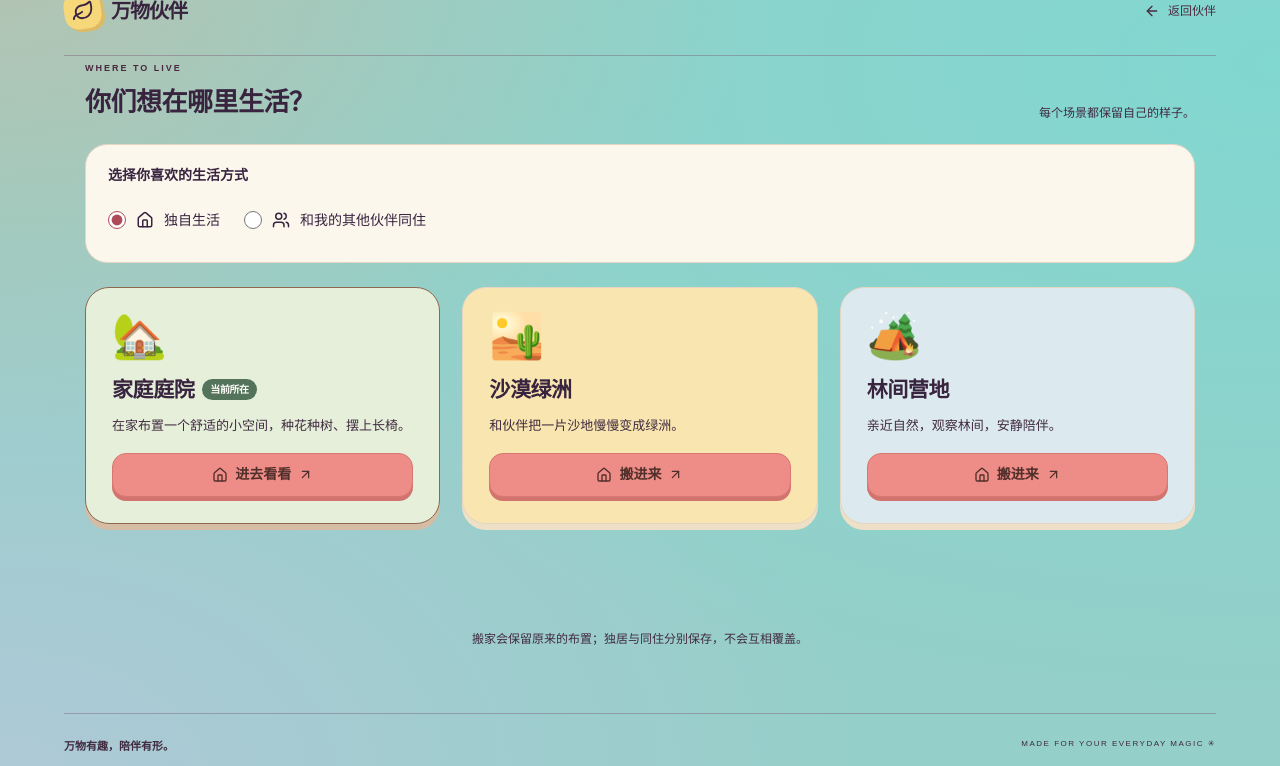
Scenario: creates only on explicit request and blocks consecutive clicks
Click the radio button labelled "和我的其他伙伴同住".
click(253, 220)  # box left=244, top=211, right=262, bottom=229
(page scrolled)
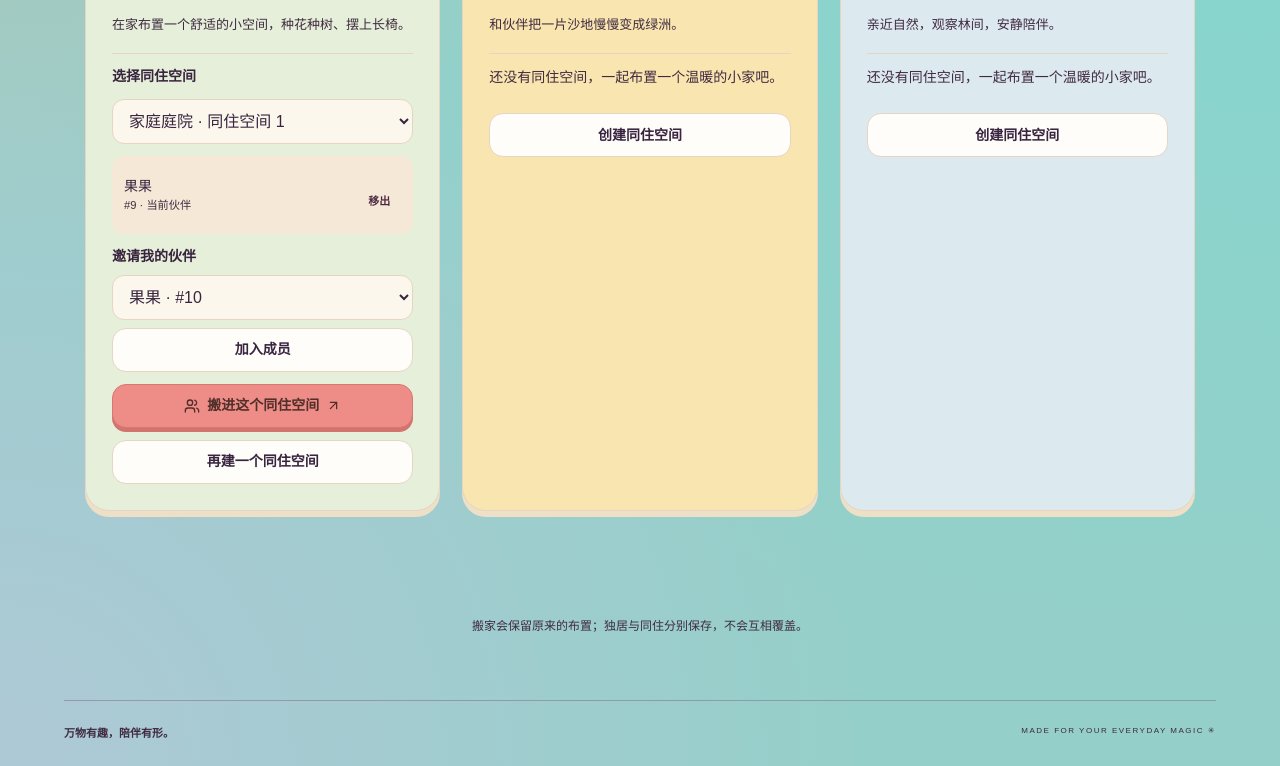
Click the button "再建一个同住空间".
click(263, 462)  # box left=112, top=440, right=413, bottom=484
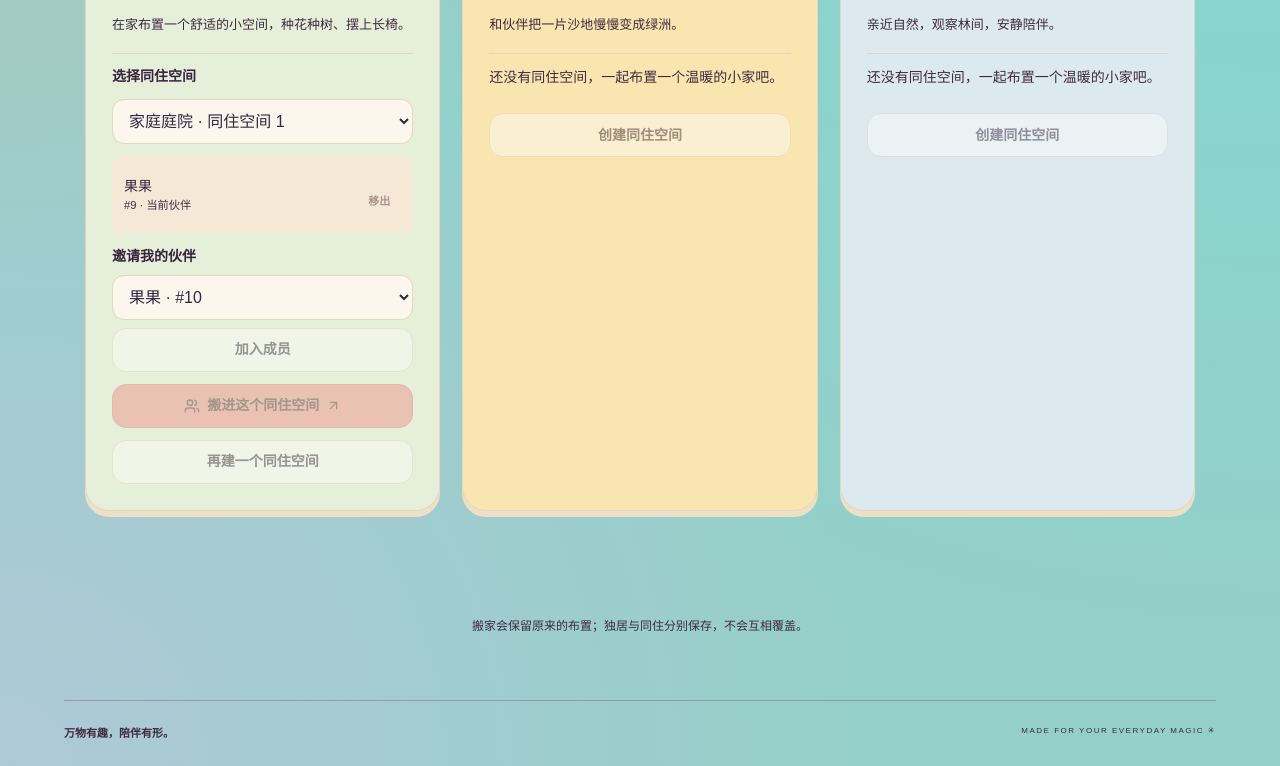
Click the button "再建一个同住空间".
click(263, 462)  # box left=112, top=440, right=413, bottom=484
(page scrolled)
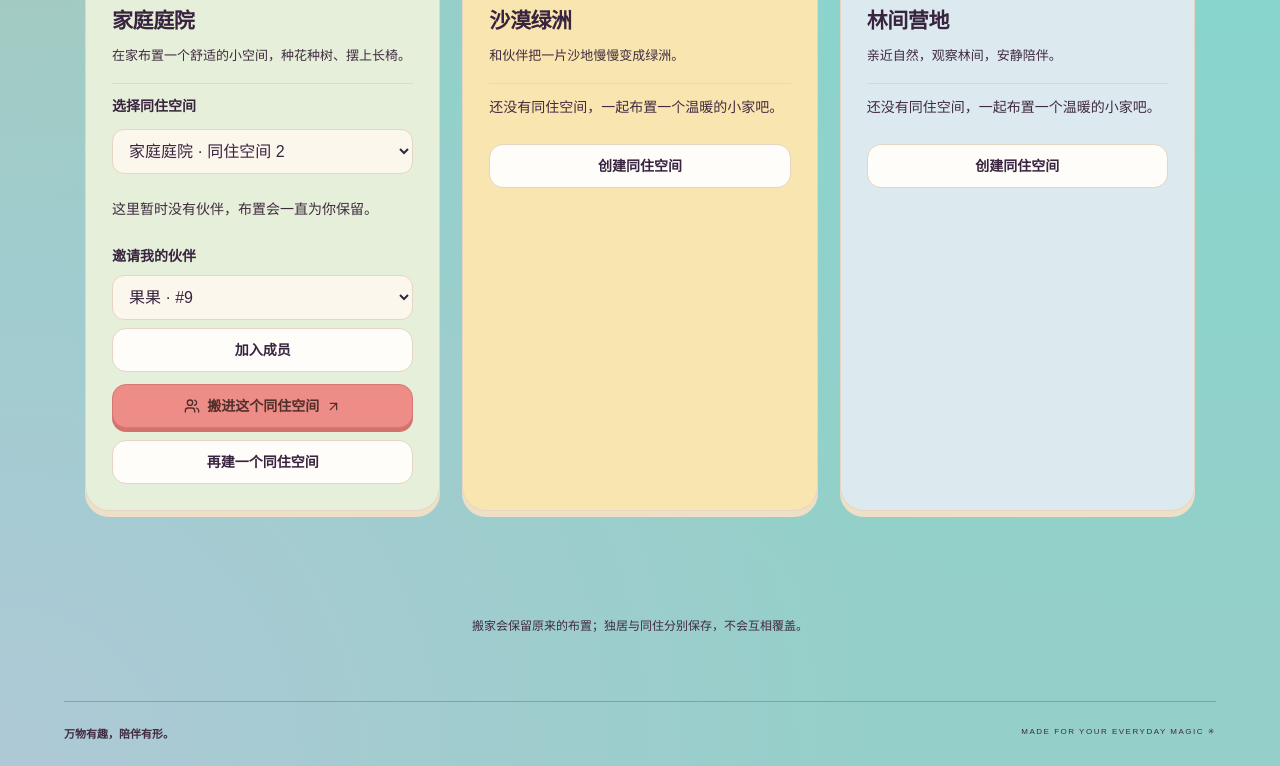
Check: the dropdown labelled "选择同住空间" shows "家庭庭院 · 同住空间 2", box left=112, top=130, right=413, bottom=174
